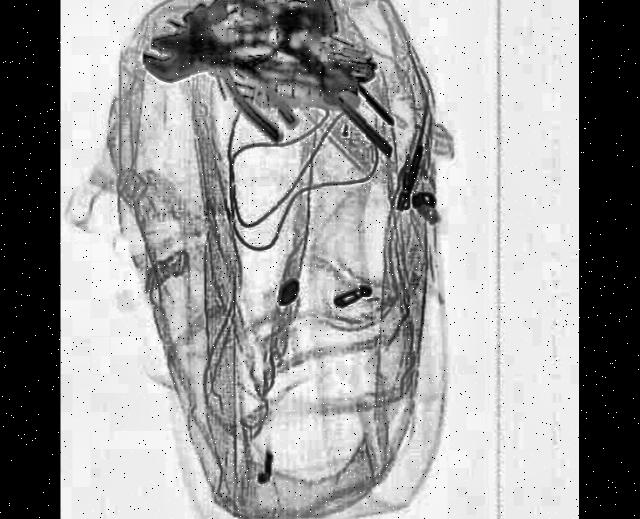Pliers: (176, 0, 301, 152)
Wrench: (144, 28, 376, 98)
